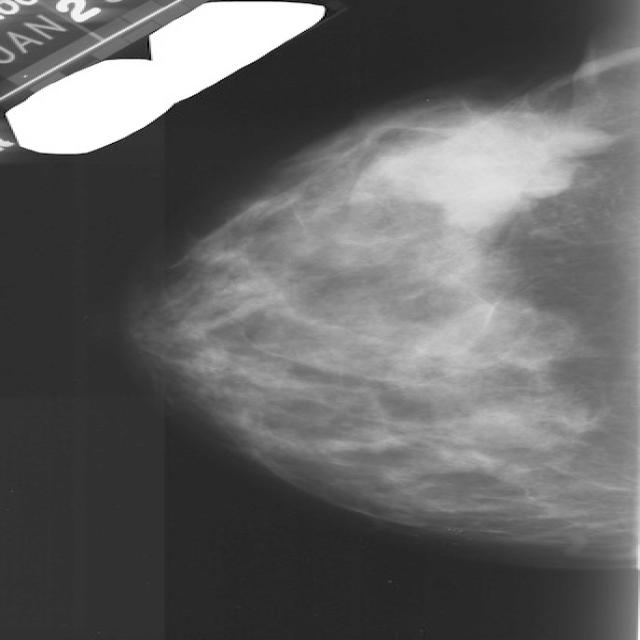tumour: (374, 114, 594, 218)
